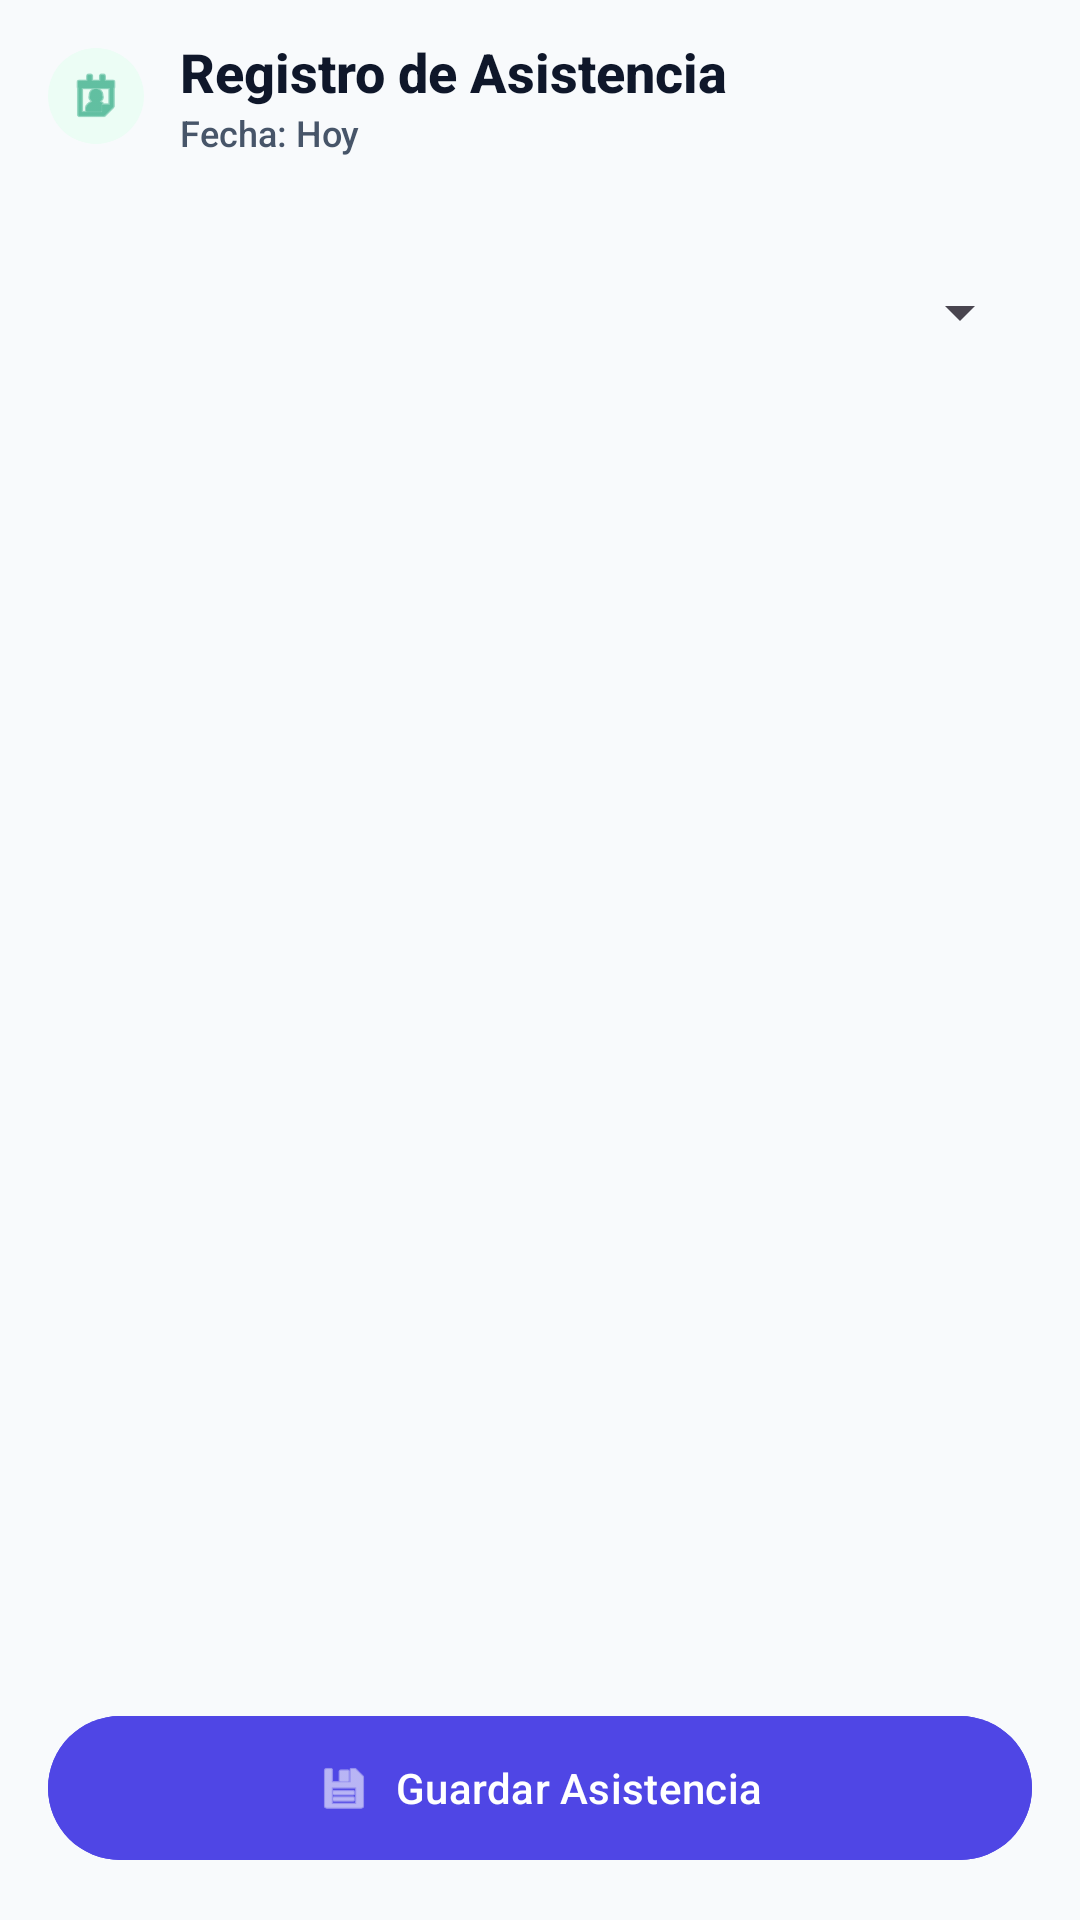

Point at icon controls on the screen. Image size 1080×1920, points as point (x, y).
calendar: point (96, 95)
